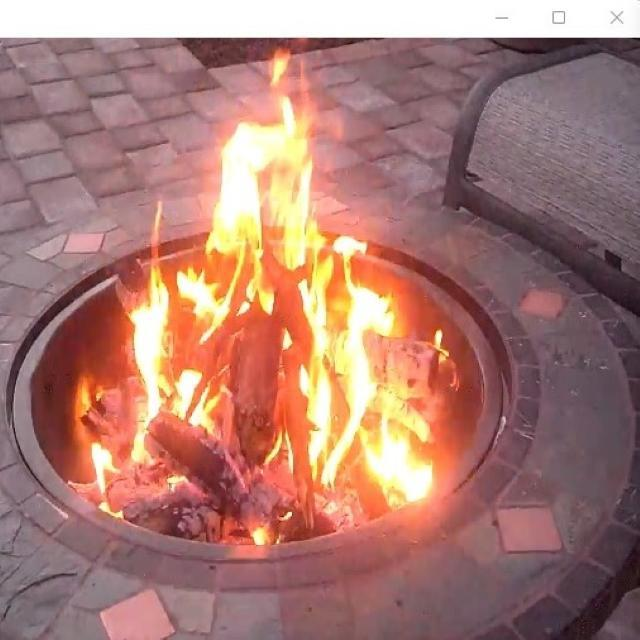Fire: (67, 48, 452, 554)
